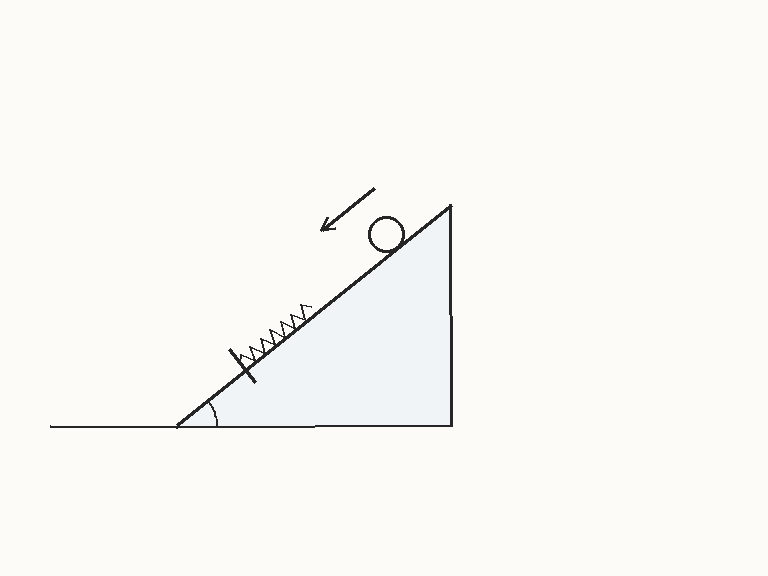ball: (366, 214, 406, 254)
ramp: (175, 202, 453, 428)
spring: (238, 302, 313, 365)
